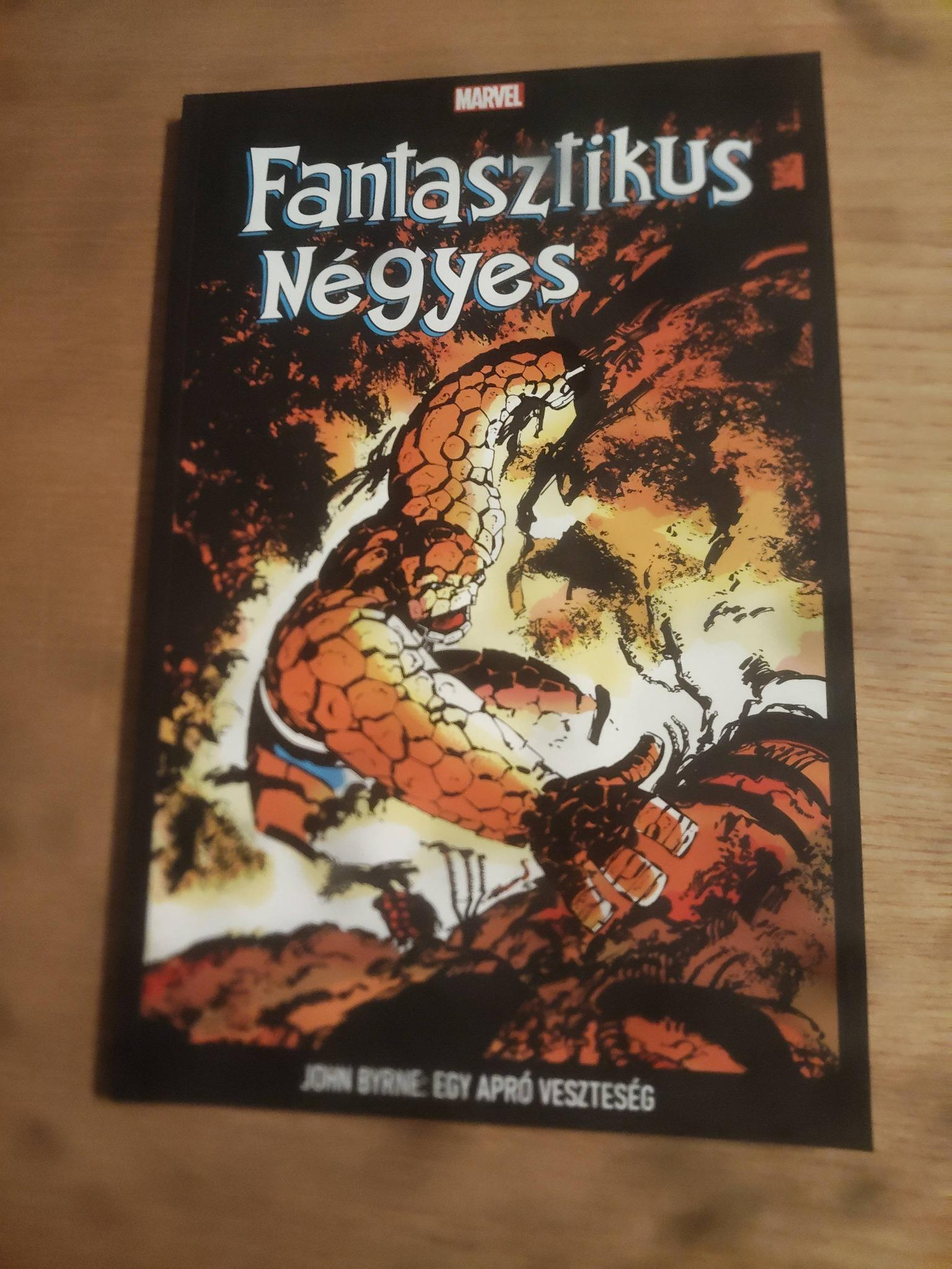comic: (104, 12, 942, 1147)
